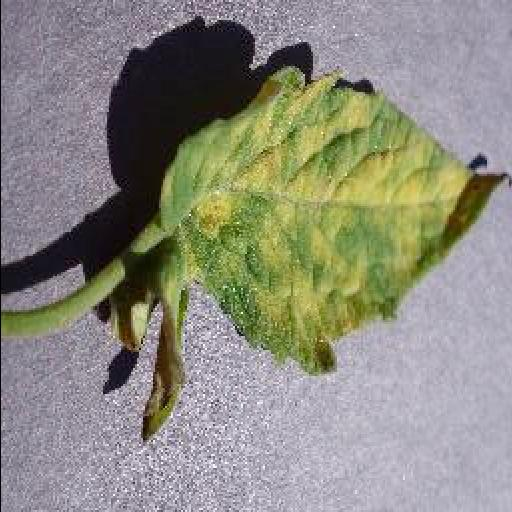disease_tomato: (158, 63, 512, 375)
